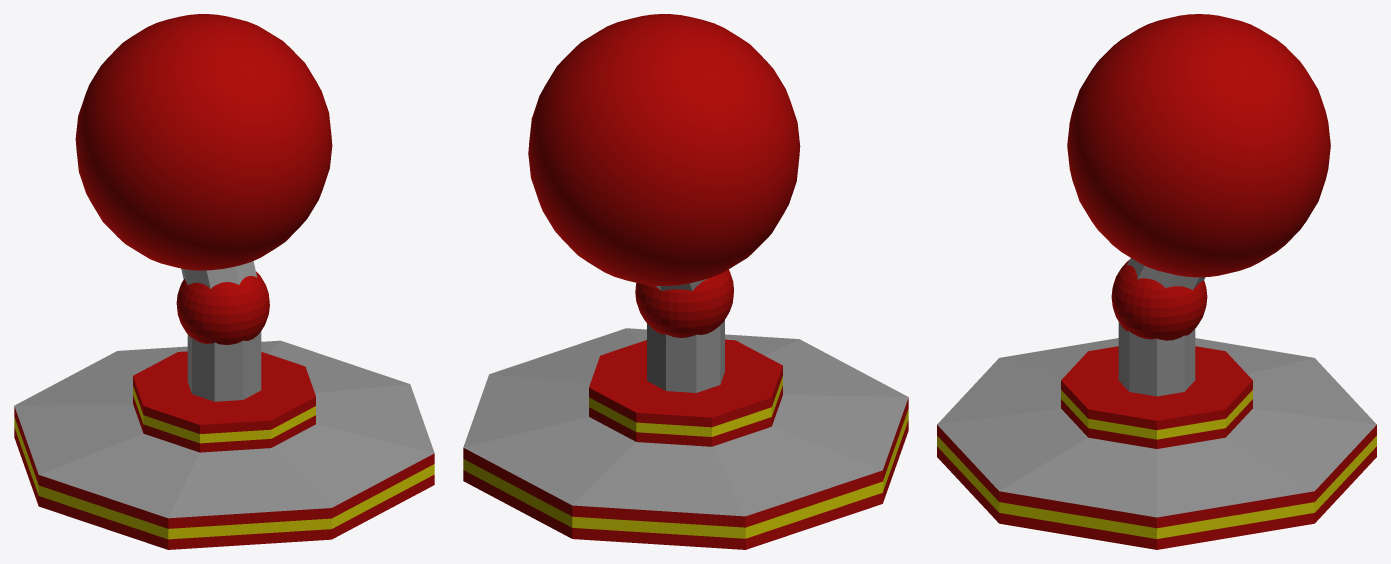
Rendered from Torreta_Base.fbx.
The picture shows the model from 3 angles, left to right: view 1: azimuth 30°, elevation 25°; view 2: azimuth 150°, elevation 25°; view 3: azimuth 270°, elevation 25°; orthographic projection. The views are drawn at different scales.
Visible parts, largest first — view 1: TorretaBase; view 2: TorretaBase; view 3: TorretaBase.
Part boxes in pixels (x1=…): TorretaBase: x1=14, y1=14, x2=434, y2=549; TorretaBase: x1=463, y1=14, x2=908, y2=549; TorretaBase: x1=937, y1=14, x2=1376, y2=549.
Size of the model in its own units: 139 by 151 by 139.
